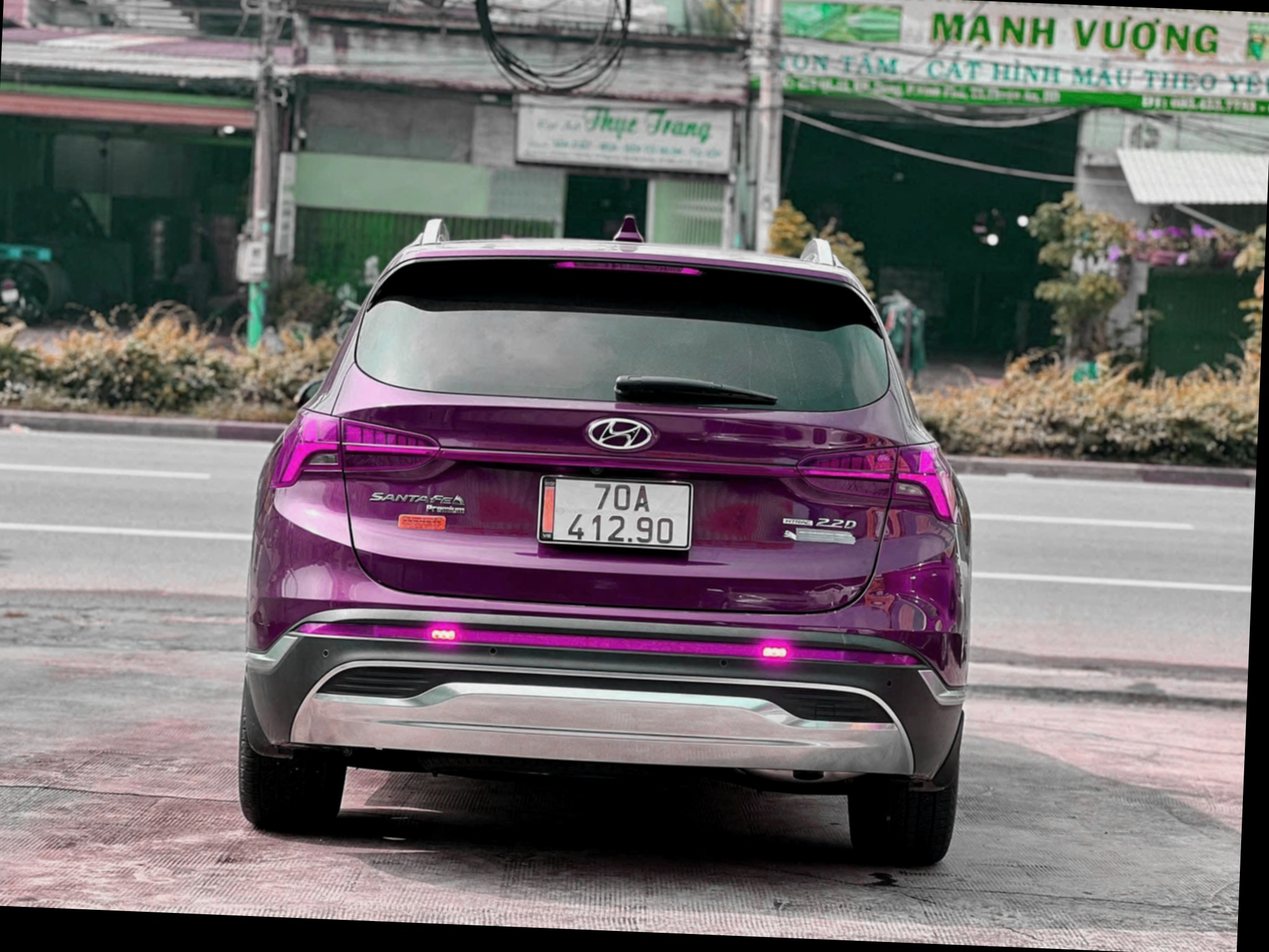Bien-so: (554, 472, 698, 551)
